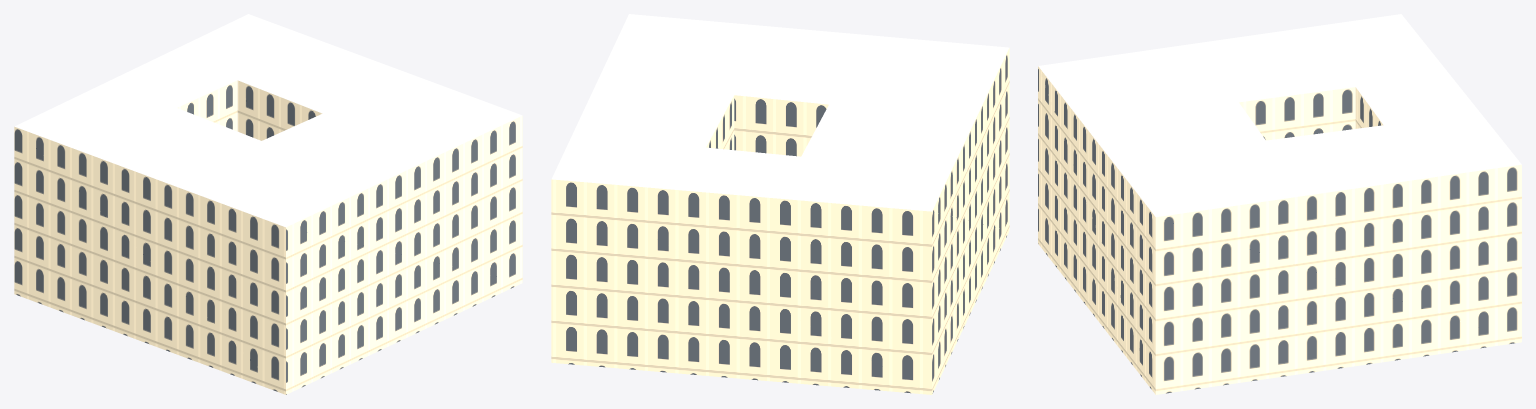
The model's file is landmark-nizami-museum.glb.
3 views of the same model, side by side, from view 1: azimuth 30°, elevation 25°; view 2: azimuth 150°, elevation 25°; view 3: azimuth 270°, elevation 25° (orthographic). The views are drawn at different scales.
Parts seen in each view (by area): view 1: nizami-museum; view 2: nizami-museum; view 3: nizami-museum.
Part boxes in pixels (box(x1,y1,x2,y2)): nizami-museum: box(14, 14, 522, 394); nizami-museum: box(551, 14, 1009, 394); nizami-museum: box(1038, 14, 1521, 394).
Size of the model in its own units: 57.33 by 23.37 by 57.66.
Materials: 2 (1 with a texture image).
